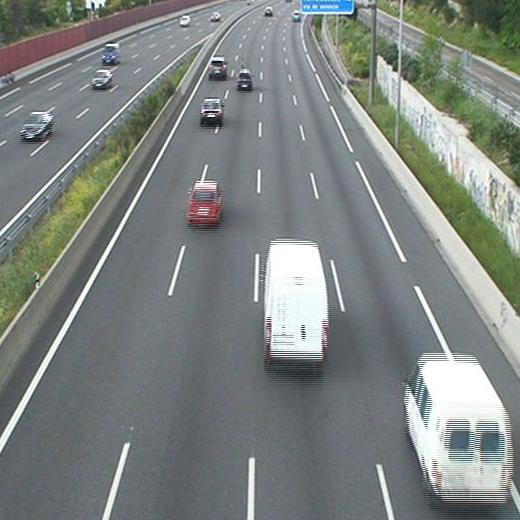car: (185, 180, 223, 228), (199, 98, 224, 127), (208, 54, 227, 81), (236, 68, 253, 92)
van: (402, 352, 513, 507), (264, 237, 329, 373)
